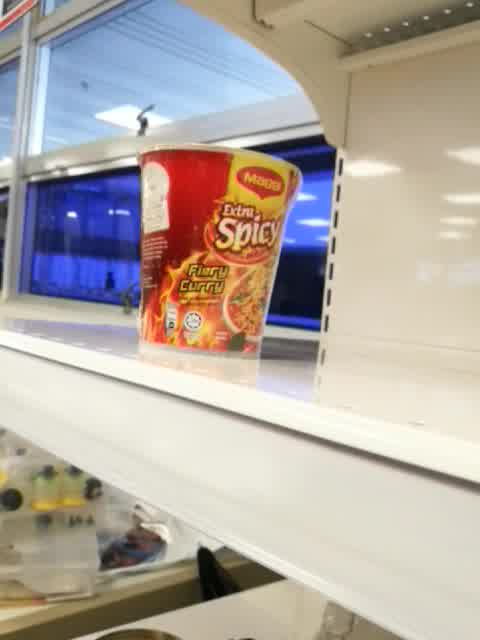maggi: (134, 144, 302, 365)
